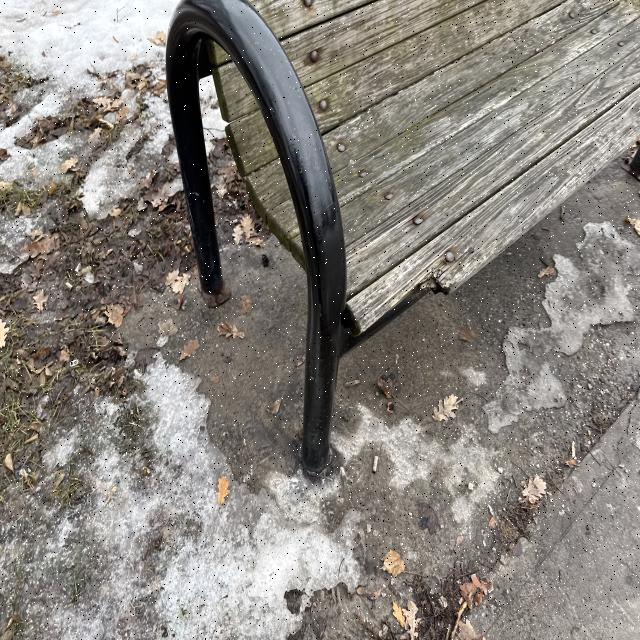Bench: (138, 0, 565, 469)
